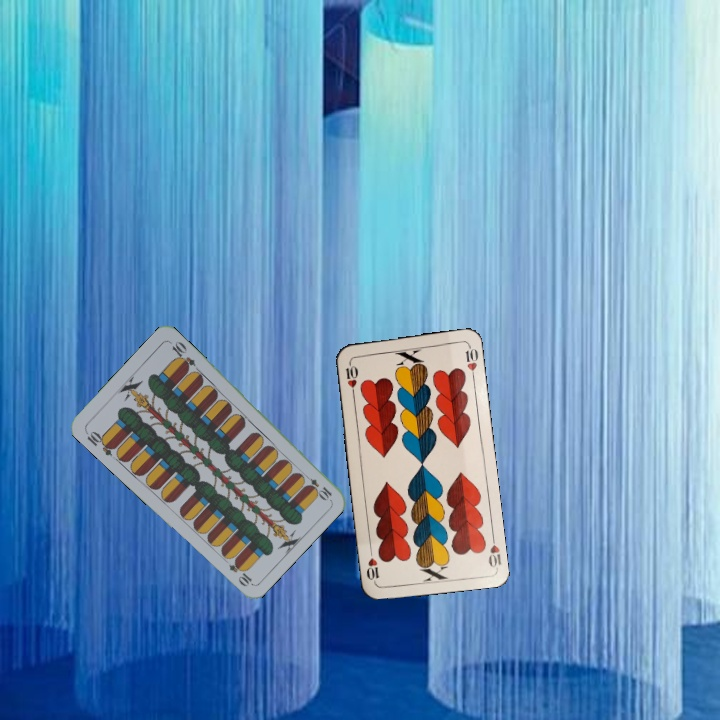E10: (81, 427, 118, 458), (299, 470, 334, 502)
H10: (484, 530, 503, 571), (342, 357, 360, 398)
